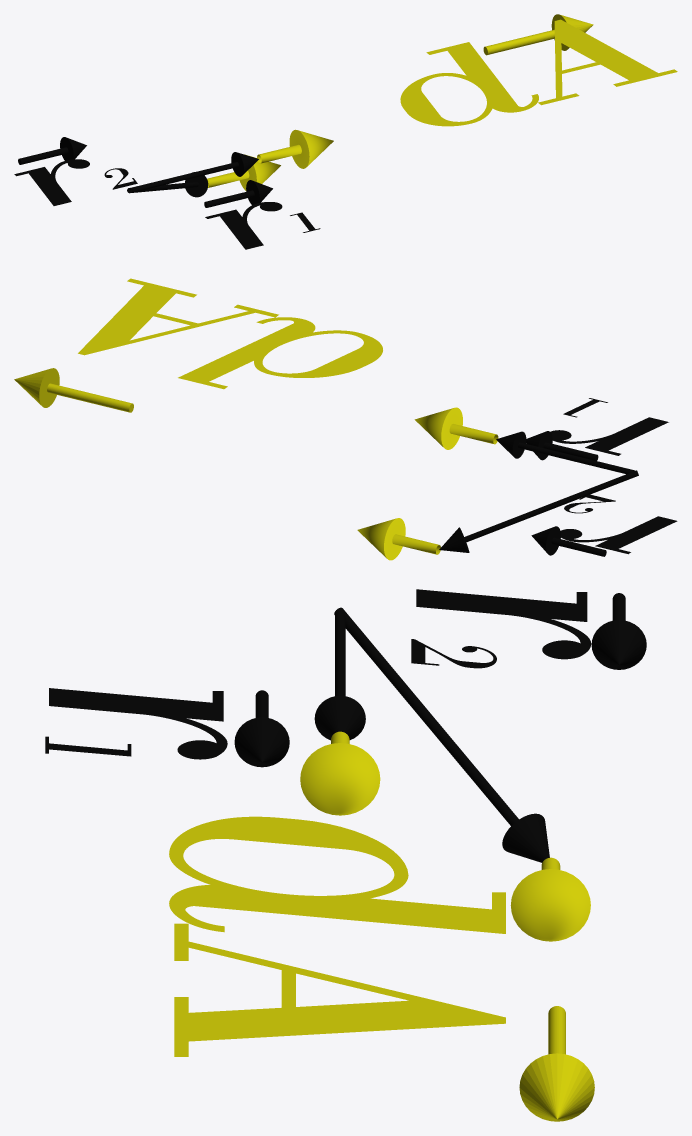
Rendered from vectores cubo.glb.
3 views of the same model, one above another, from view 1: azimuth 30°, elevation 25°; view 2: azimuth 150°, elevation 25°; view 3: azimuth 270°, elevation 25° (orthographic). The views are drawn at different scales.
Visible parts, largest first — view 1: Text.002; view 2: Text.002; view 3: Text.002.
Part boxes in pixels (<box>): Text.002: <box>14,14,677,249</box>; Text.002: <box>14,278,677,560</box>; Text.002: <box>45,589,646,1121</box>.
Size of the model in its own units: 11.42 by 2.02 by 5.17.
